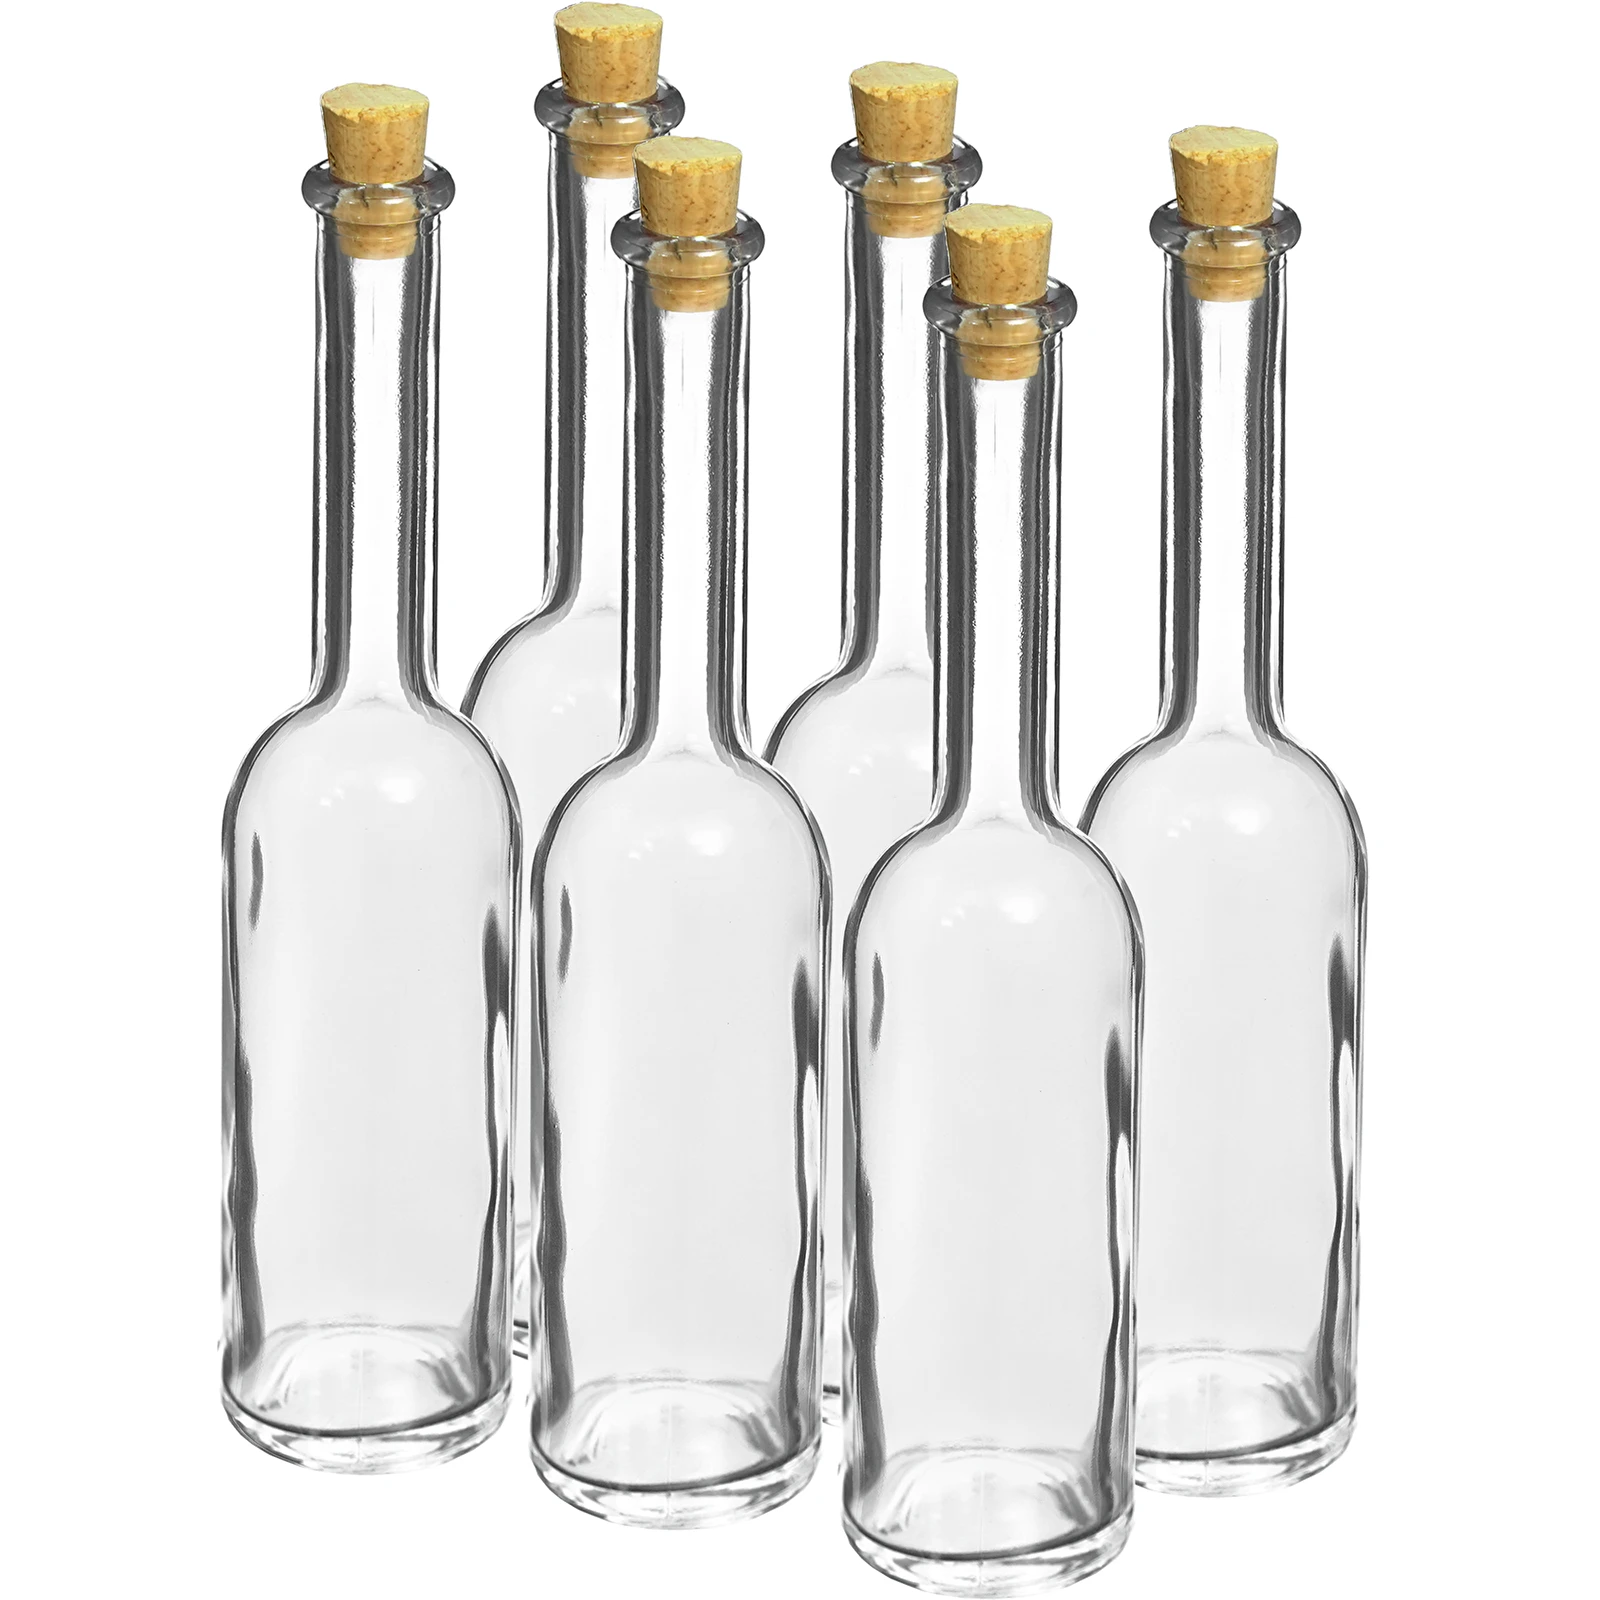glass_bottle: (195, 1, 1395, 1596)
